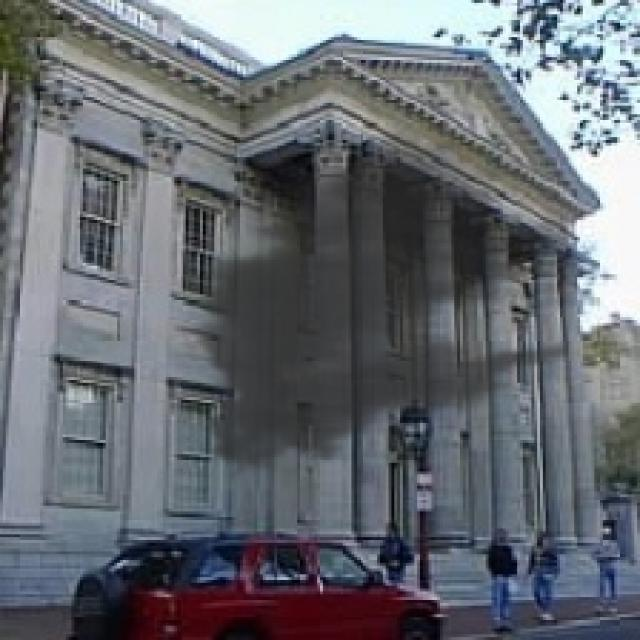Smoke: (172, 120, 568, 489)
